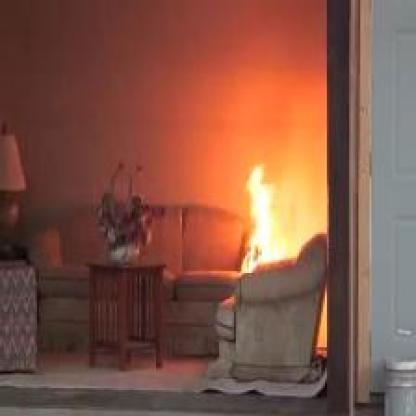fire: (215, 157, 297, 288)
